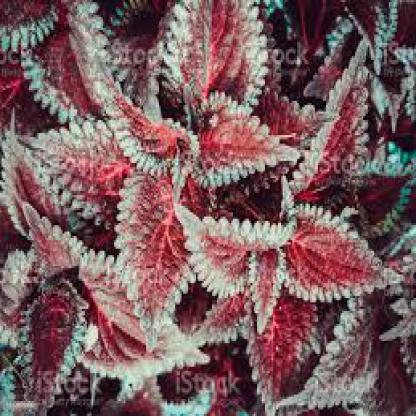Bunga Coleus: (7, 10, 414, 398)
